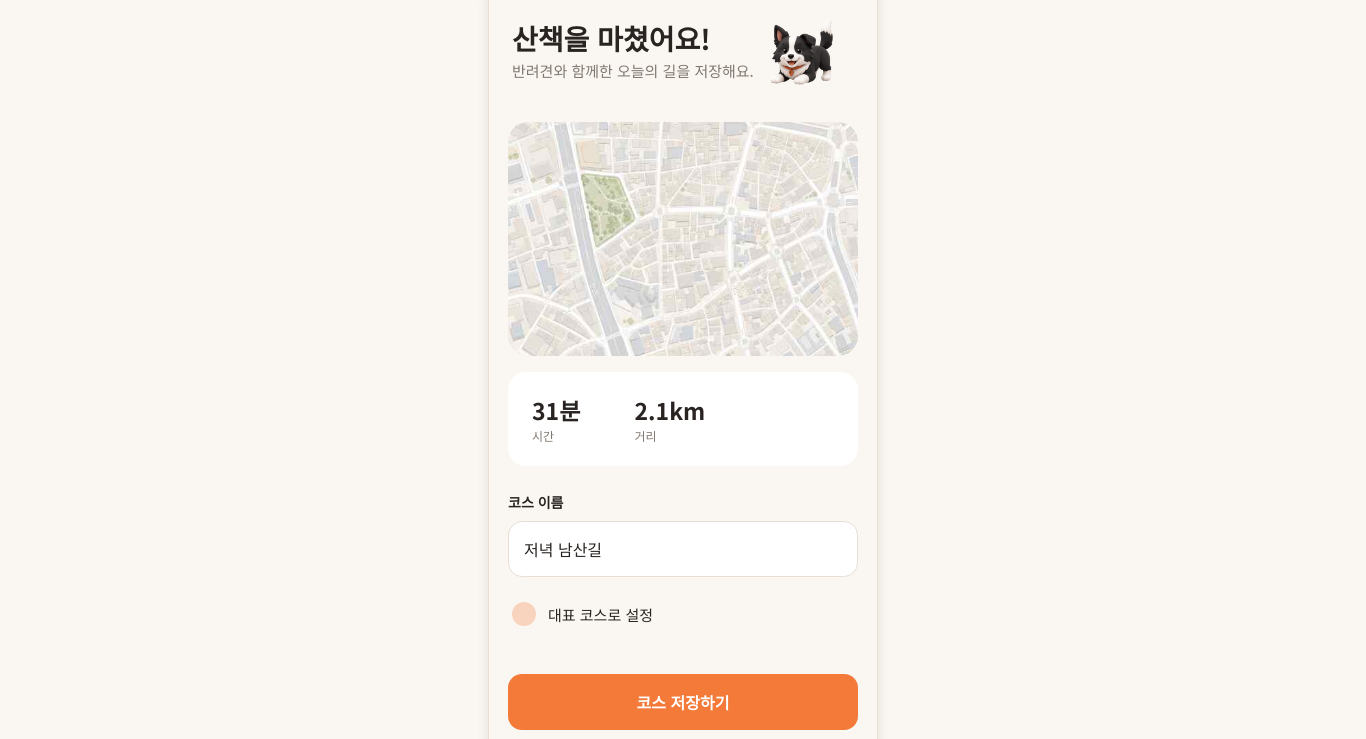
Test: WalkCompletePage › explains that a walk ended away from its start can still be saved normally
The width and height of the screenshot is (1366, 739).
Click the button "대표 코스로 설정" at (582, 614), box [512,600,653,628]
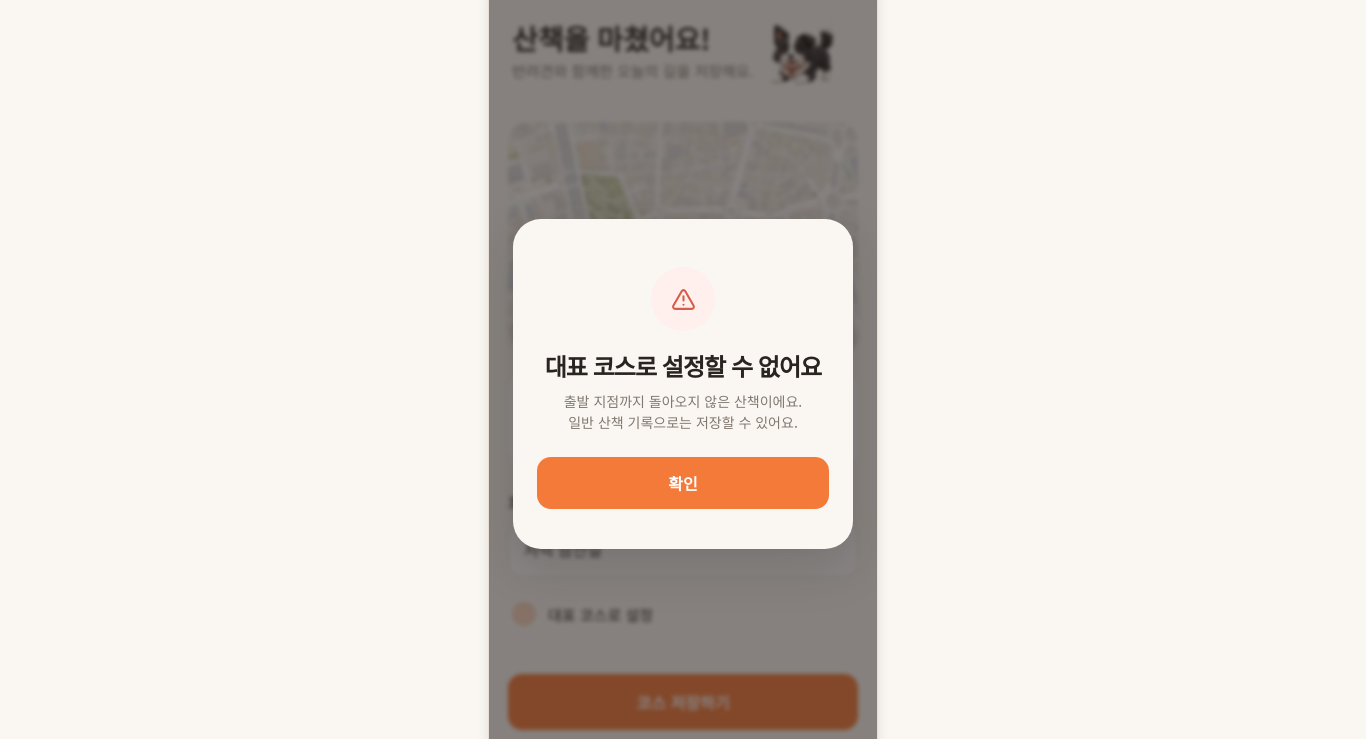
Now the dialog named "대표 코스 설정 불가" shows "출발 지점까지 돌아오지 않은 산책이에요", box [564,391,802,411]
Now the dialog named "대표 코스 설정 불가" shows "일반 산책 기록으로는 저장할 수 있어요", box [568,412,798,432]
